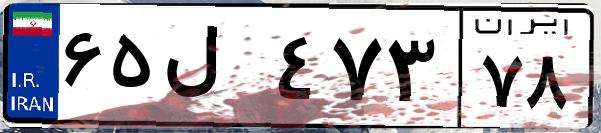3: (385, 28, 445, 110)
4: (270, 28, 330, 110)
5: (110, 28, 158, 98)
6: (57, 26, 110, 100)
7: (330, 28, 385, 110), (475, 38, 525, 113)
8: (525, 38, 570, 115)
ل: (158, 20, 270, 120)
